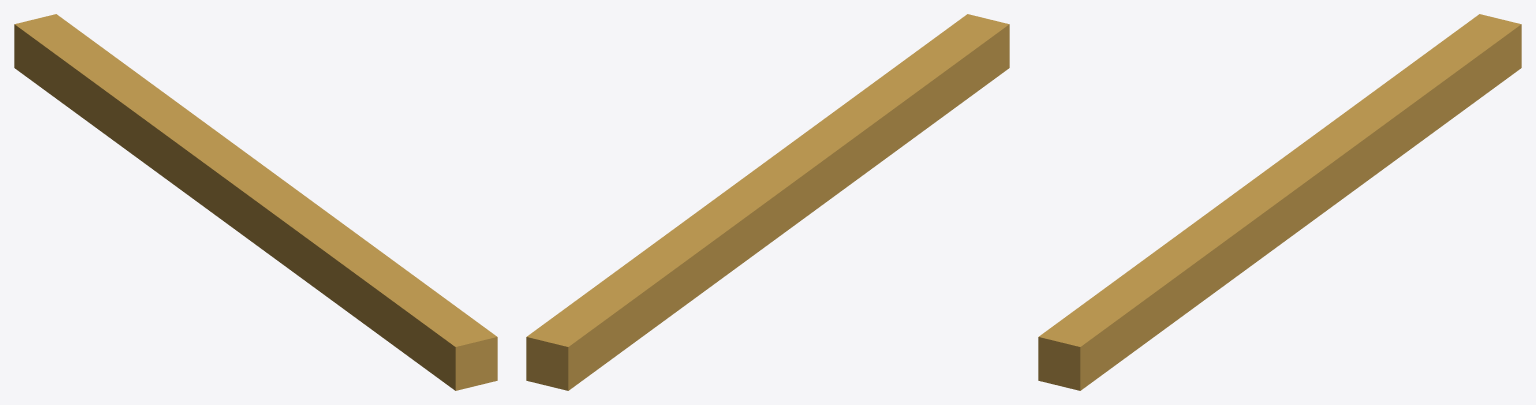
3 views of the same model, side by side, from view 1: azimuth 30°, elevation 25°; view 2: azimuth 150°, elevation 25°; view 3: azimuth 330°, elevation 25° (orthographic).
Parts seen in each view (by area): view 1: GAP-53-LINTEL-0; view 2: GAP-53-LINTEL-0; view 3: GAP-53-LINTEL-0.
Part boxes in pixels (x1,y1,x2,y2): GAP-53-LINTEL-0: [14, 14, 497, 390]; GAP-53-LINTEL-0: [526, 14, 1009, 390]; GAP-53-LINTEL-0: [1038, 14, 1521, 390].
Size of the model in its own units: 0.045 by 0.045 by 0.82.
